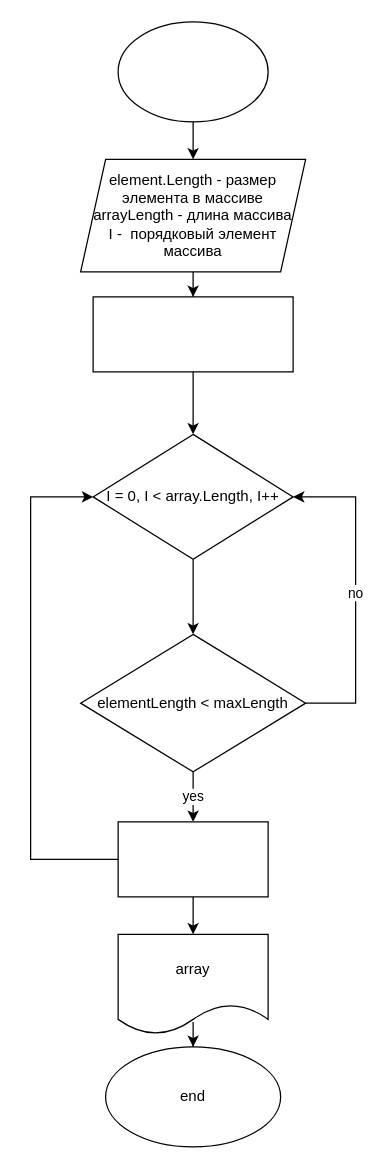
Image size: 388x1169. Some labels were removed from this diagram. Here are the shapes that lost their labels. From the top down, the centre of each, then its label:
(x=192, y=71): start
(x=192, y=334): I - 0 maxLength = 3
(x=192, y=859): array[I] = array[i]
